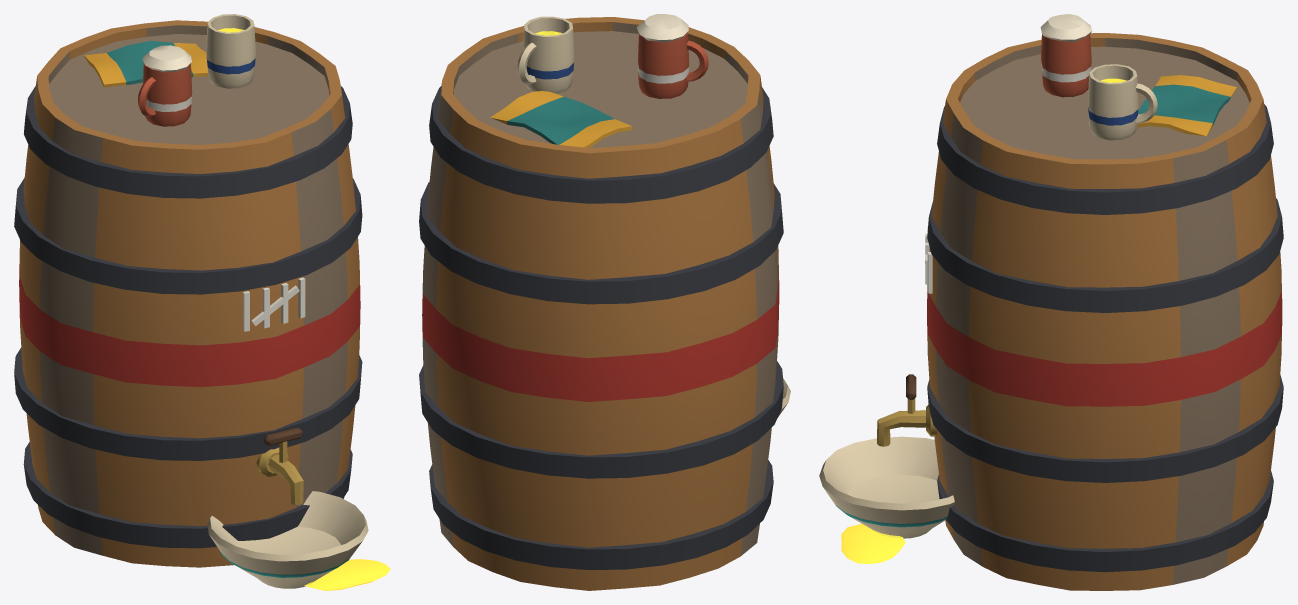
The model's file is deco_keg_tap.fbx.
The picture shows the model from 3 angles, left to right: view 1: azimuth 30°, elevation 25°; view 2: azimuth 150°, elevation 25°; view 3: azimuth 270°, elevation 25°; orthographic projection. The views are drawn at different scales.
Parts seen in each view (by area): view 1: Keg_Tap_Barrel, Keg_Tap_Mugs, Keg_Tap_Tap; view 2: Keg_Tap_Barrel, Keg_Tap_Mugs; view 3: Keg_Tap_Barrel, Keg_Tap_Mugs, Keg_Tap_Tap.
Boxes of the visible parts, <box> form: Keg_Tap_Barrel: <box>14,20,390,590</box>; Keg_Tap_Mugs: <box>84,14,255,126</box>; Keg_Tap_Tap: <box>256,427,303,504</box>; Keg_Tap_Barrel: <box>419,17,790,590</box>; Keg_Tap_Mugs: <box>490,14,708,147</box>; Keg_Tap_Barrel: <box>819,33,1283,590</box>; Keg_Tap_Mugs: <box>1040,14,1236,140</box>; Keg_Tap_Tap: <box>877,374,936,446</box>.
Size of the model in its own units: 90.9 by 137 by 118.
